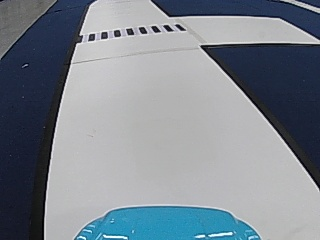CrossWalk: (78, 22, 186, 42)
